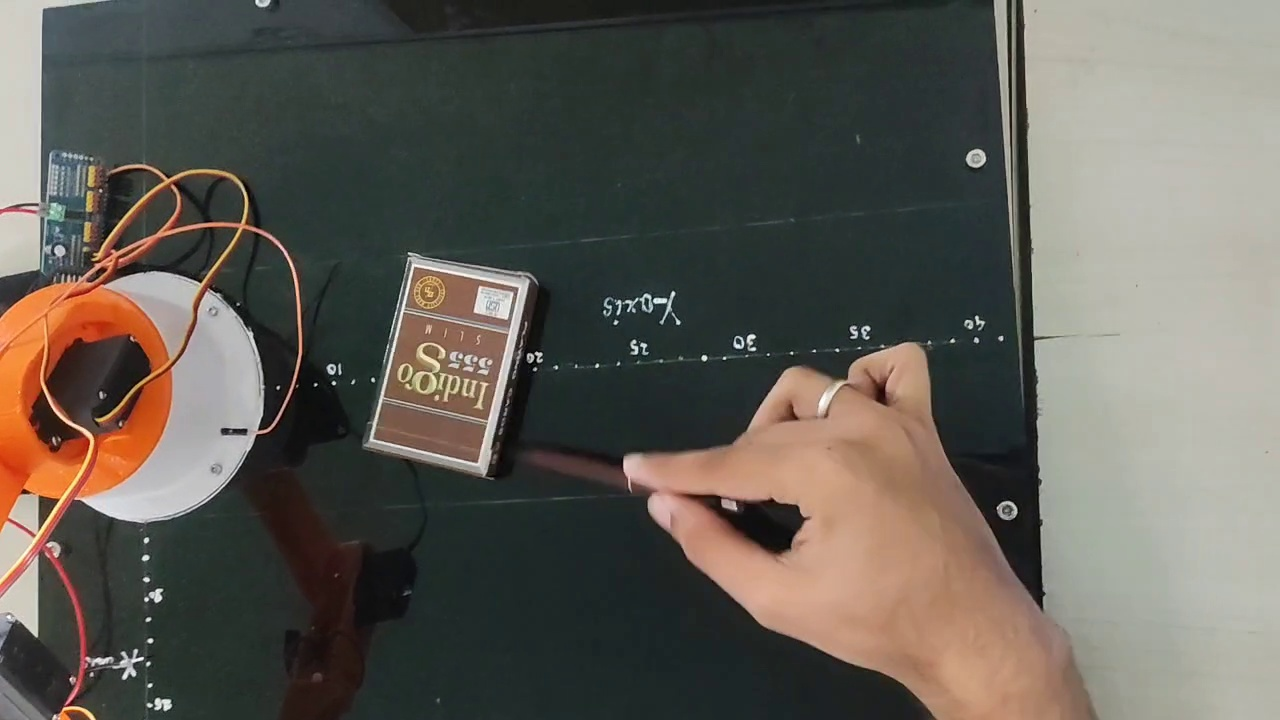BEX: (368, 260, 522, 468)
